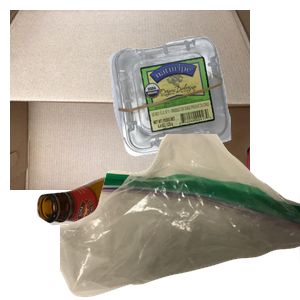cardboard: (10, 10, 250, 190)
glass: (34, 170, 223, 300)
plastic: (106, 34, 300, 183)
trash: (60, 134, 300, 300)
